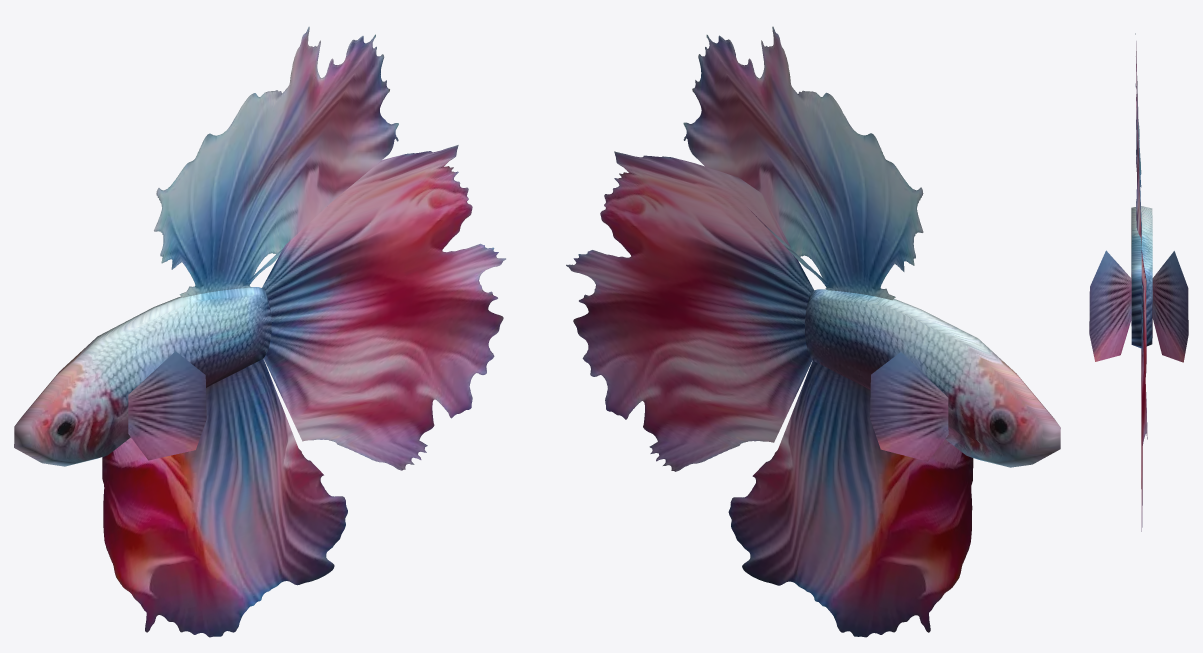
The model's file is fish-transformed.glb.
3 views of the same model, side by side, from view 1: azimuth 30°, elevation 25°; view 2: azimuth 150°, elevation 25°; view 3: azimuth 270°, elevation 25° (orthographic). The views are drawn at different scales.
Visible parts, largest first — view 1: Fish; view 2: Fish; view 3: Fish.
Part boxes in pixels (bbox=[...]): Fish: bbox=[14, 26, 505, 637]; Fish: bbox=[566, 26, 1060, 637]; Fish: bbox=[1089, 33, 1188, 531].
Size of the model in its own units: 4.29 by 4.9 by 0.6864.
2 materials, 2 textured.
